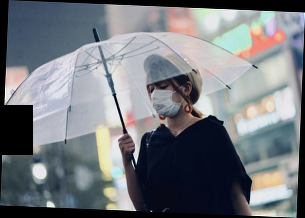with_mask: (146, 77, 186, 117)
